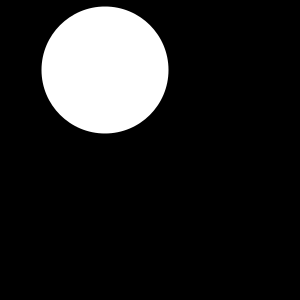rectangle: (41, 6, 168, 134), (70, 77, 96, 103)
